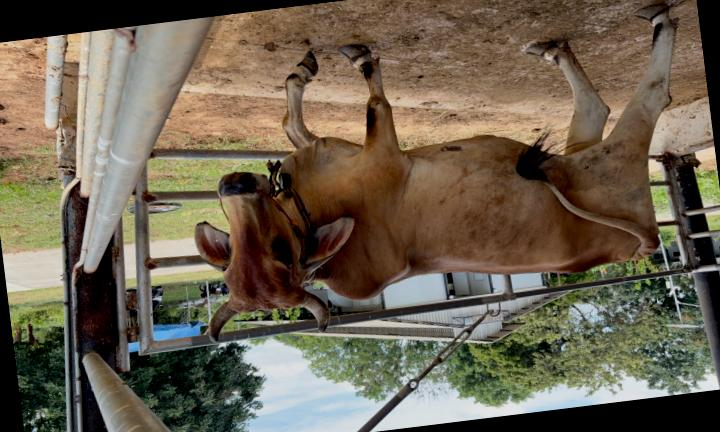Brahman: (195, 6, 676, 340)
